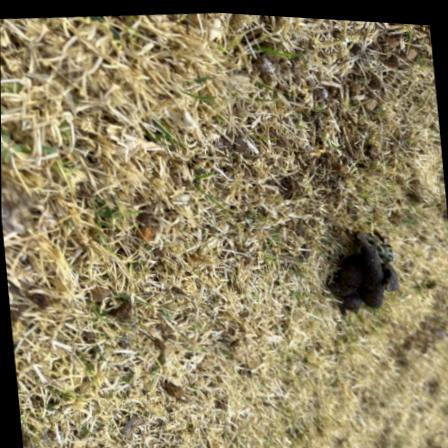dog-poop: (319, 219, 412, 323)
